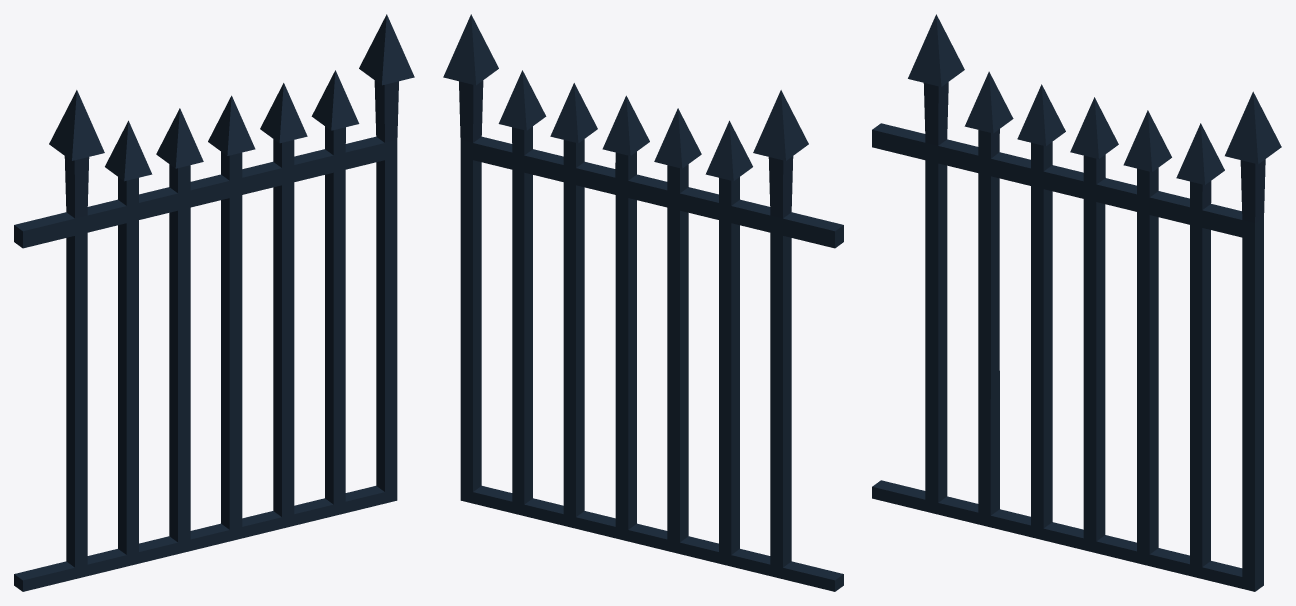
File: Building_Gate02.fbx
3 views of the same model, side by side, from view 1: azimuth 30°, elevation 25°; view 2: azimuth 150°, elevation 25°; view 3: azimuth 330°, elevation 25° (orthographic). The views are drawn at different scales.
Parts seen in each view (by area): view 1: Cube.433; view 2: Cube.433; view 3: Cube.433.
Part boxes in pixels (bbox=[...]): Cube.433: bbox=[14, 14, 414, 591]; Cube.433: bbox=[443, 14, 843, 591]; Cube.433: bbox=[872, 14, 1281, 591].
Bounding box in the file's own units: 283 × 341 × 29.35.
